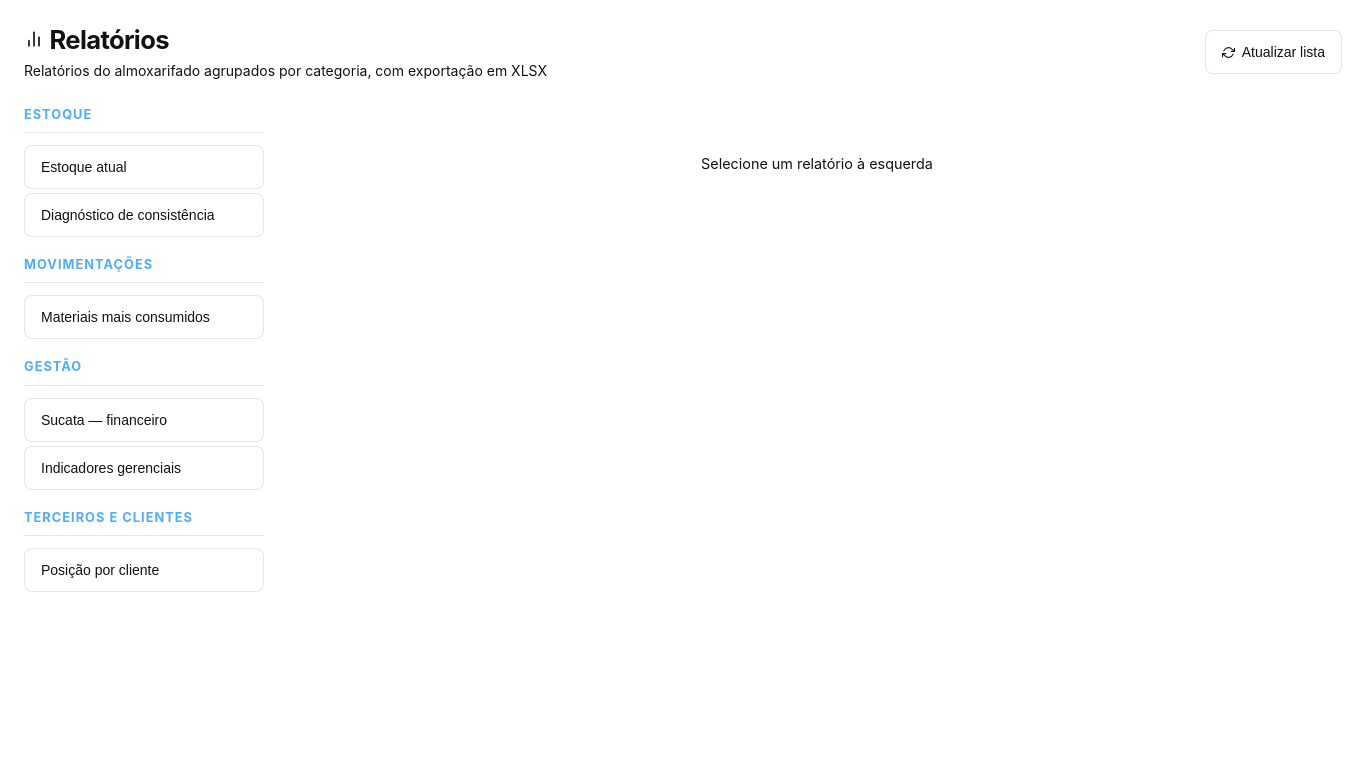
Test case: RelatoriosAlmoxarifado — tabela genérica (payload array) › renderiza cabeçalhos das chaves e valores por célula, números distintos por linha
Click the button with test id "menu-relatorio-materiais-mais-consumidos": [144, 317] box 24,295 -> 264,339
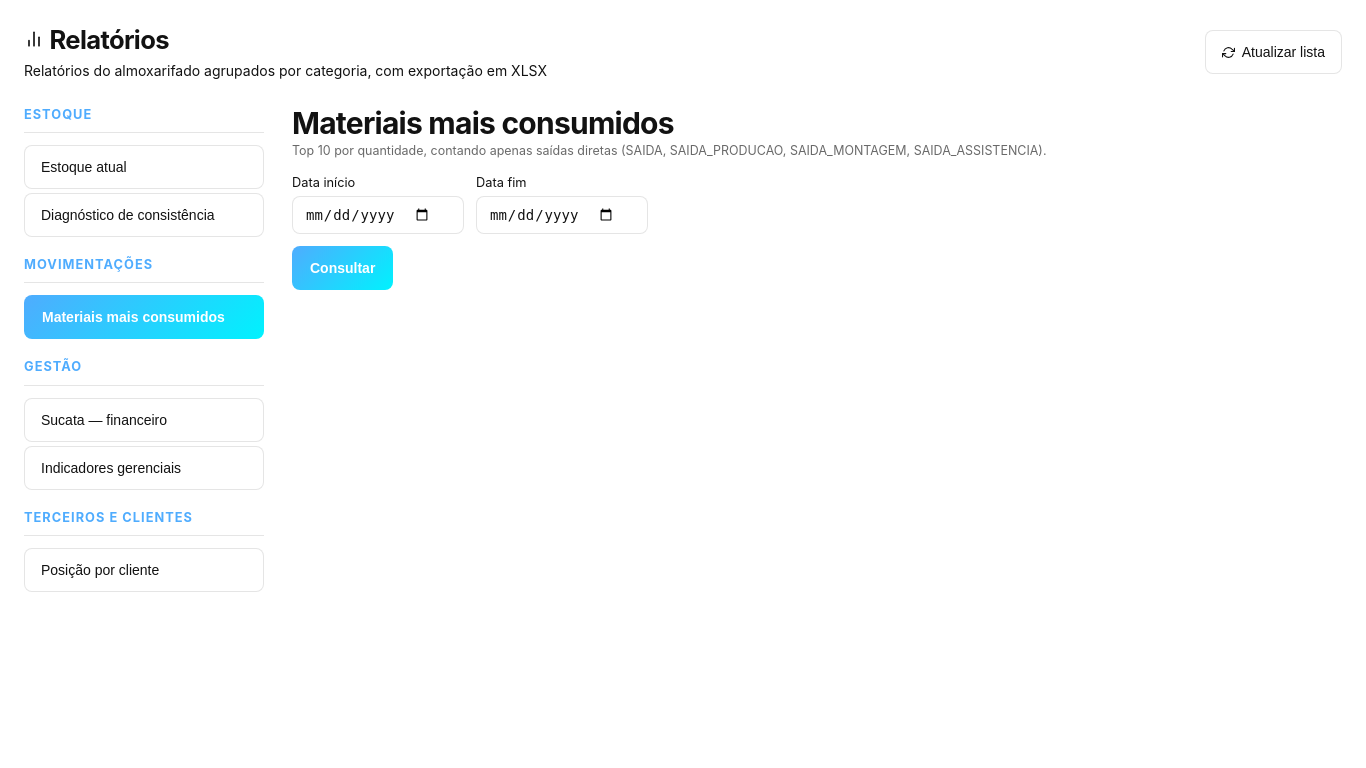
Click the button "Consultar": [343, 268] box 292,246 -> 393,290
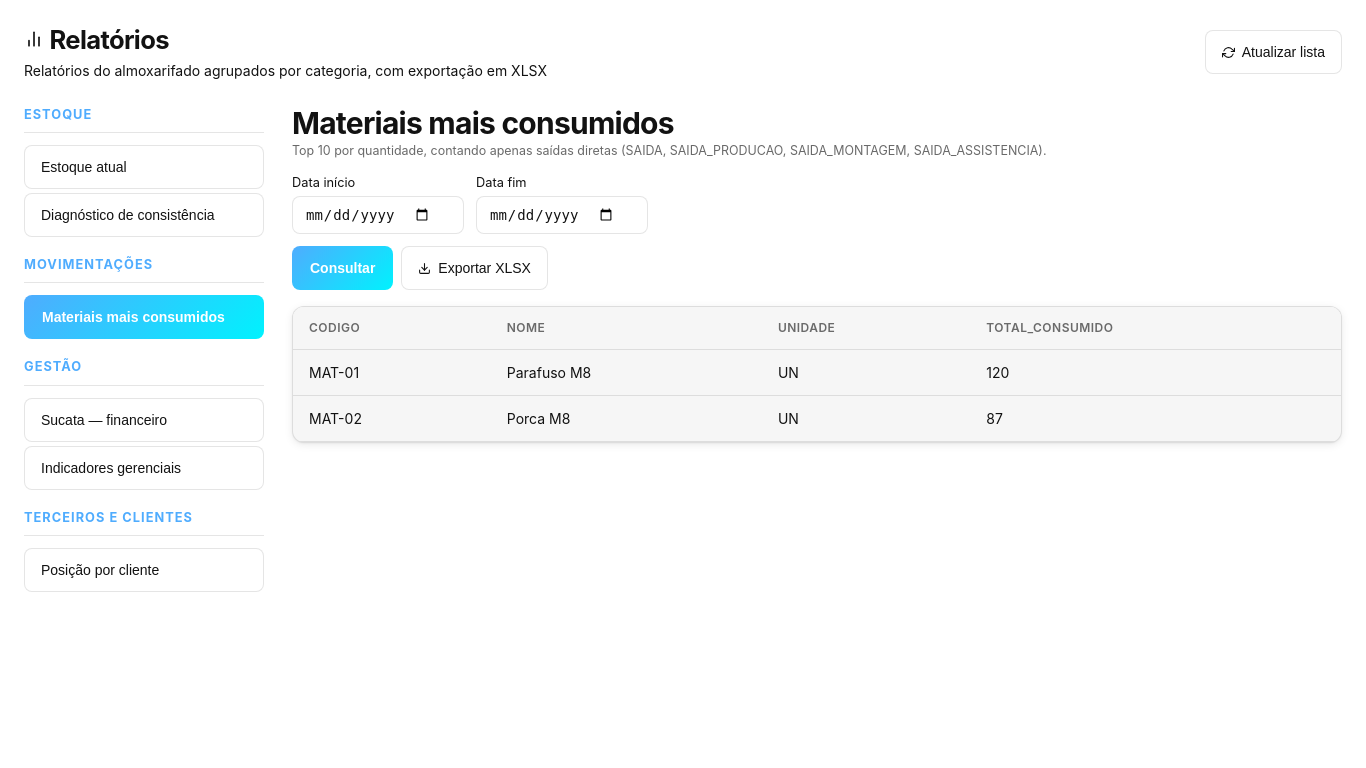
Check: the table with class "almox-table" is shown, box 293,307 -> 1341,442
Check: the cell "MAT-01" is shown, box 293,350 -> 491,396
Check: the cell "120" is shown, box 970,350 -> 1341,396
